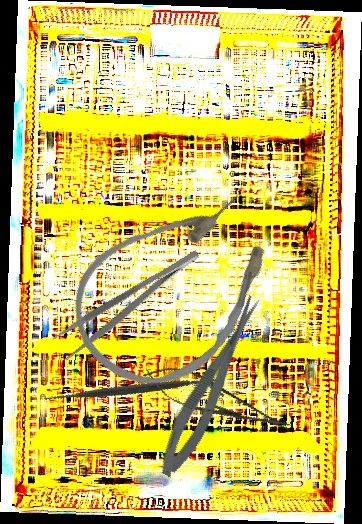Cannula: (45, 162, 310, 417)
Dressing Forceps: (50, 246, 210, 362)
Micro Scissor: (149, 291, 273, 483)
Needle Holder: (137, 355, 298, 446)
Spatula Surgical: (35, 292, 229, 486)
